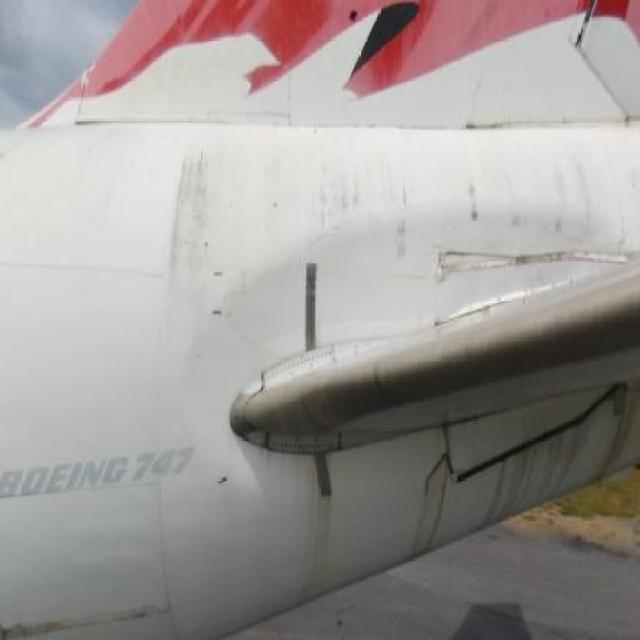Missing-Rivet: (258, 342, 338, 393), (268, 425, 369, 457), (372, 352, 393, 398)
Rust: (250, 138, 427, 270), (454, 133, 626, 247), (487, 404, 598, 518), (275, 448, 356, 600), (168, 136, 228, 302), (406, 434, 465, 558), (438, 245, 588, 284), (0, 587, 75, 638), (459, 104, 526, 138)
Scartch: (222, 266, 260, 322)
